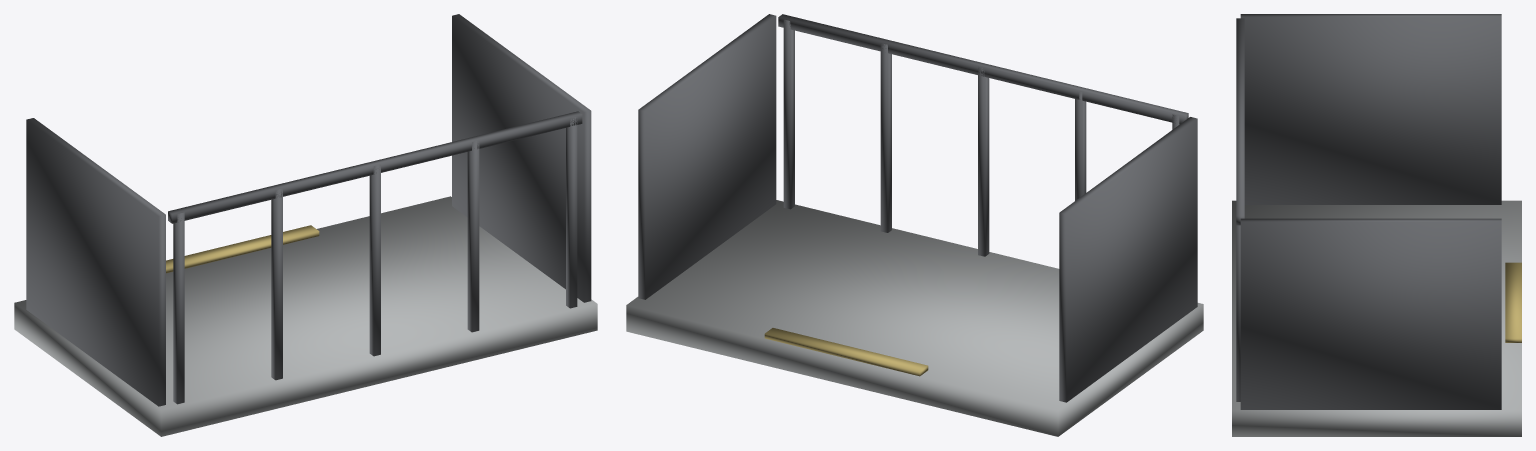
Rendered from steel_w240_d140_door-or-window.glb.
The picture shows the model from 3 angles, left to right: view 1: azimuth 30°, elevation 25°; view 2: azimuth 150°, elevation 25°; view 3: azimuth 270°, elevation 25°; orthographic projection.
Visible parts, largest first — view 1: world; view 2: world; view 3: world.
Boxes of the visible parts, <box> form: world: <box>14,14,597,436</box>; world: <box>626,14,1203,436</box>; world: <box>1232,14,1521,436</box>.
Size of the model in its own units: 2.4 by 1.14 by 1.4.
